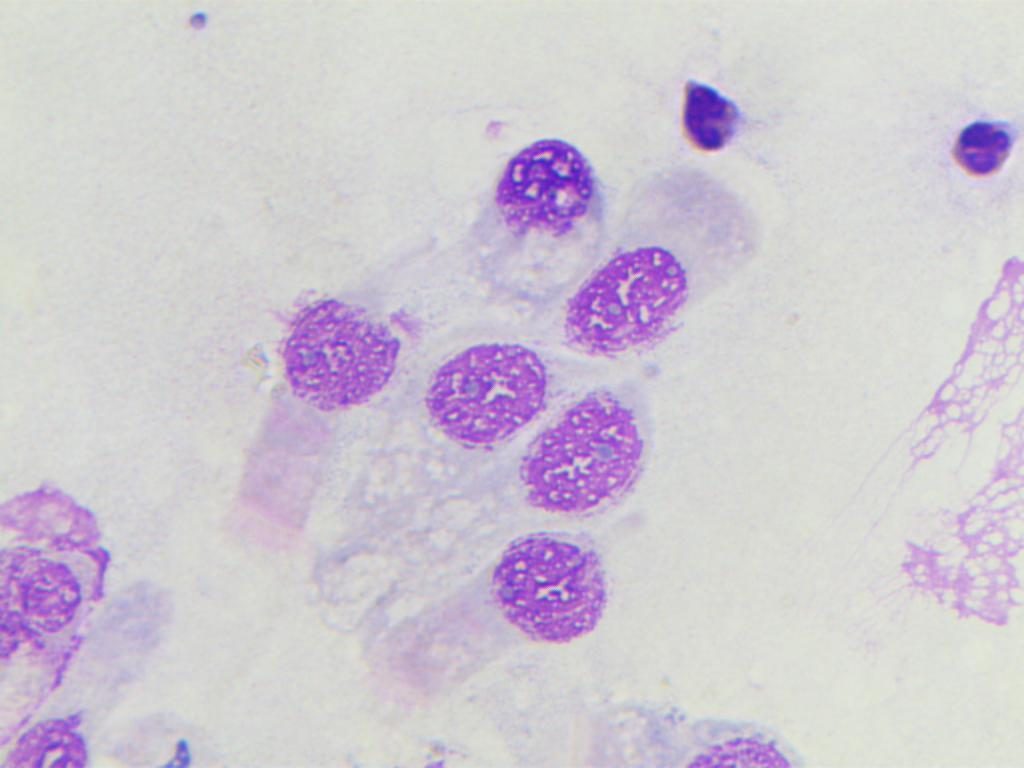ciliated: (328, 384, 673, 655), (303, 335, 550, 575), (368, 122, 608, 330), (226, 289, 404, 545), (371, 524, 613, 696), (564, 170, 769, 361), (549, 682, 818, 768)
neutrophil: (665, 70, 766, 166), (945, 114, 1014, 192)
